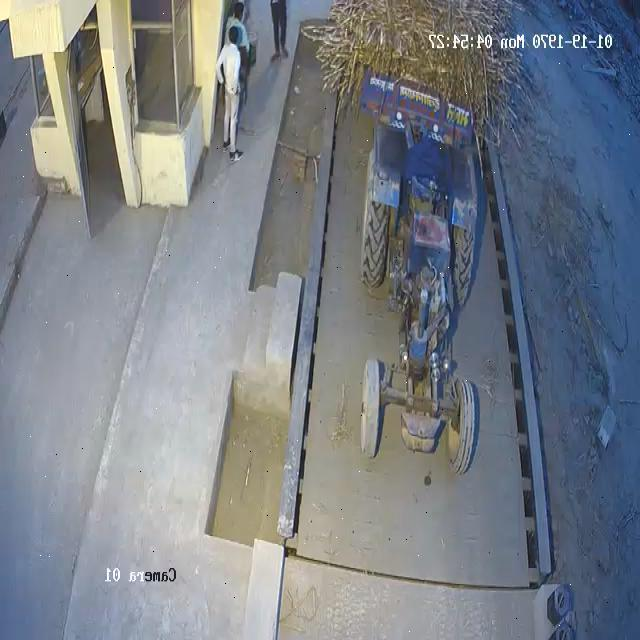Tratores - v5 YOLO V8L 2024-11-13: (354, 130, 482, 472)
